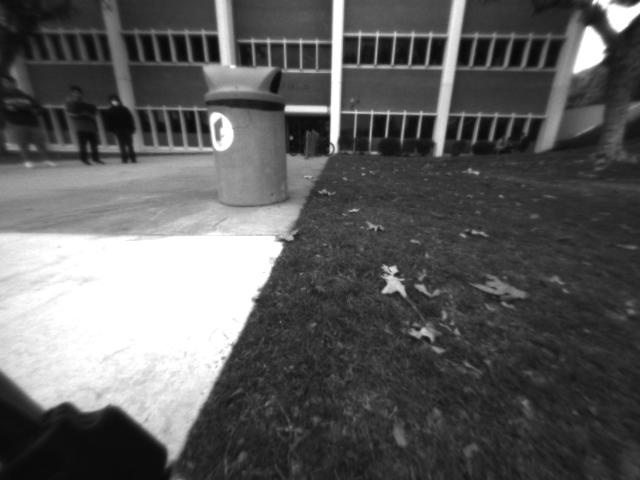trashcan: (200, 62, 293, 211)
